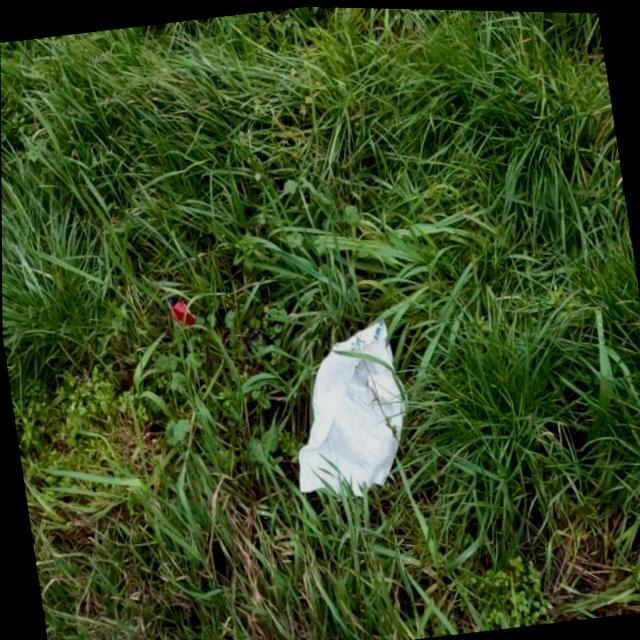Paper: (270, 310, 422, 510)
